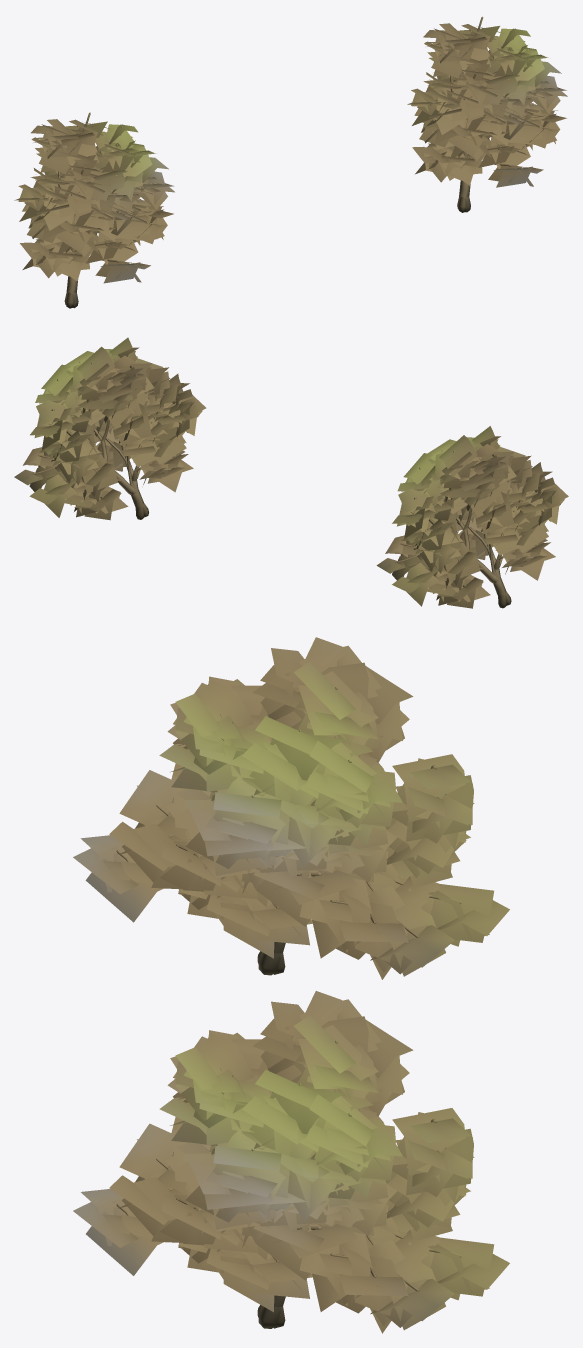
The model's file is natural_env_pasted_no_landscape.gltf.
3 views of the same model, one above another, from view 1: azimuth 30°, elevation 25°; view 2: azimuth 150°, elevation 25°; view 3: azimuth 270°, elevation 25° (orthographic). The views are drawn at different scales.
Visible parts, largest first — view 1: Walnut_L.001, Walnut_L.007; view 2: Walnut_L.001, Walnut_L.007; view 3: Walnut_L.001, Walnut_L.007.
Boxes of the visible parts, x1,y1,x2,y2 form: Walnut_L.001: [14, 112, 174, 308]; Walnut_L.007: [407, 16, 567, 212]; Walnut_L.001: [376, 426, 568, 608]; Walnut_L.007: [14, 337, 206, 520]; Walnut_L.001: [73, 637, 509, 979]; Walnut_L.007: [73, 991, 509, 1333].
Size of the model in its own units: 43.83 by 13.96 by 16.36.
